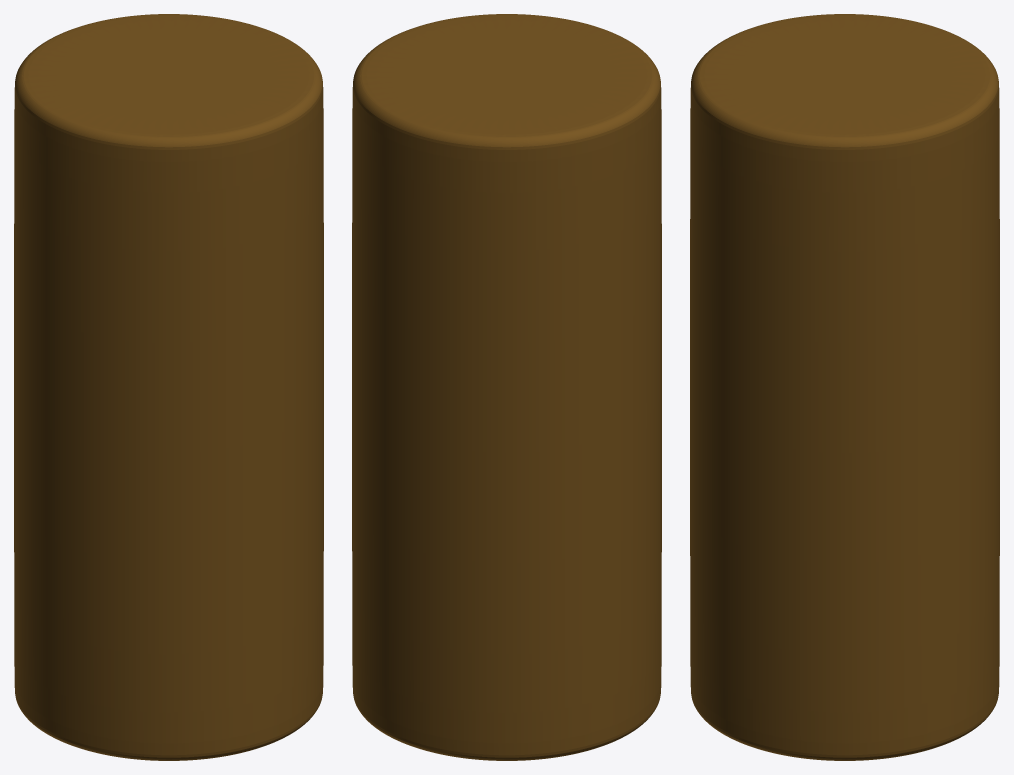
Rendered from 04deee1e-3216-4918-a332-1cbd7052bab5.glb.
3 views of the same model, side by side, from view 1: azimuth 30°, elevation 25°; view 2: azimuth 150°, elevation 25°; view 3: azimuth 270°, elevation 25° (orthographic).
Visible parts, largest first — view 1: ProductBody; view 2: ProductBody; view 3: ProductBody.
Part boxes in pixels (box(x1,y1,x2,y2)): ProductBody: box(14, 14, 323, 760); ProductBody: box(352, 14, 661, 760); ProductBody: box(690, 14, 999, 760).
Bounding box in the file's own units: 0.3593 × 0.8 × 0.3593.
